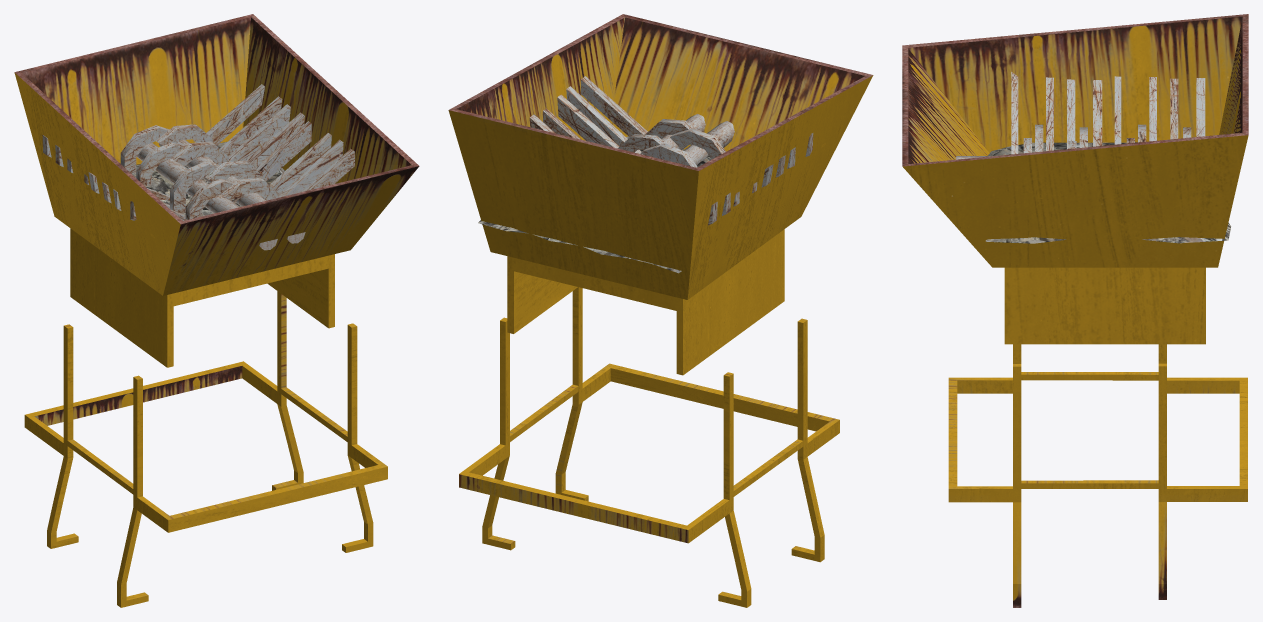
The model's file is rock_crusher.FBX.
3 renders of one model, left to right at view 1: azimuth 30°, elevation 25°; view 2: azimuth 150°, elevation 25°; view 3: azimuth 270°, elevation 25°, orthographic. The views are drawn at different scales.
Visible parts, largest first — view 1: rock_crusher, crusher_decor, rockCrusher_slope_blades, rockCrusher_spin_blades, rockCrusher_spin_pole, rock_sheet; view 2: rock_crusher, crusher_decor, rockCrusher_slope_blades, rockCrusher_spin_blades, rockCrusher_spin_pole, rock_sheet; view 3: rock_crusher, crusher_decor, rockCrusher_slope_blades, rock_sheet, rockCrusher_spin_blades.
Boxes of the visible parts, bbox=[...] form: rock_crusher: bbox=[14, 14, 419, 367]; crusher_decor: bbox=[24, 291, 387, 607]; rockCrusher_slope_blades: bbox=[42, 84, 354, 220]; rockCrusher_spin_blades: bbox=[120, 124, 278, 219]; rockCrusher_spin_pole: bbox=[137, 140, 305, 250]; rock_sheet: bbox=[132, 141, 284, 216]; rock_crusher: bbox=[448, 14, 873, 375]; crusher_decor: bbox=[459, 287, 839, 607]; rockCrusher_slope_blades: bbox=[529, 76, 813, 225]; rockCrusher_spin_blades: bbox=[618, 119, 725, 167]; rockCrusher_spin_pole: bbox=[640, 114, 734, 165]; rock_sheet: bbox=[478, 136, 711, 273]; rock_crusher: bbox=[902, 14, 1248, 344]; crusher_decor: bbox=[948, 344, 1247, 607]; rockCrusher_slope_blades: bbox=[1011, 72, 1205, 154]; rock_sheet: bbox=[985, 142, 1231, 243]; rockCrusher_spin_blades: bbox=[1023, 124, 1191, 153].
Bounding box in the file's own units: 52.93 × 90.36 × 60.43.
Materials: 4 (4 with a texture image).
